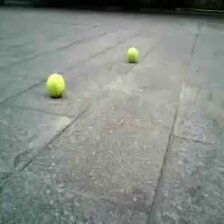tennis: (46, 73, 64, 95), (128, 46, 139, 61)
